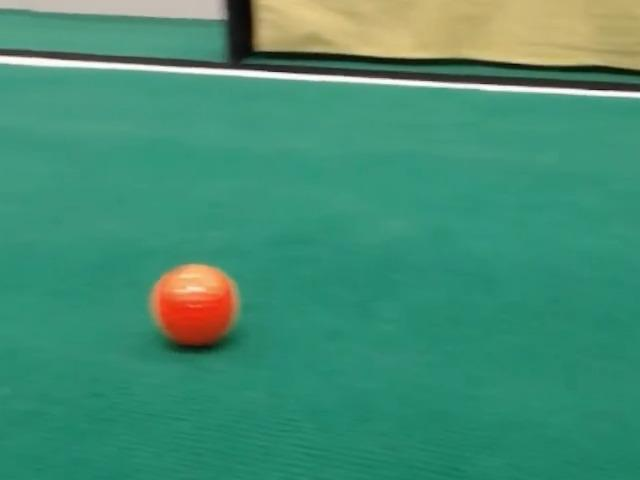Ball: (149, 264, 239, 347)
